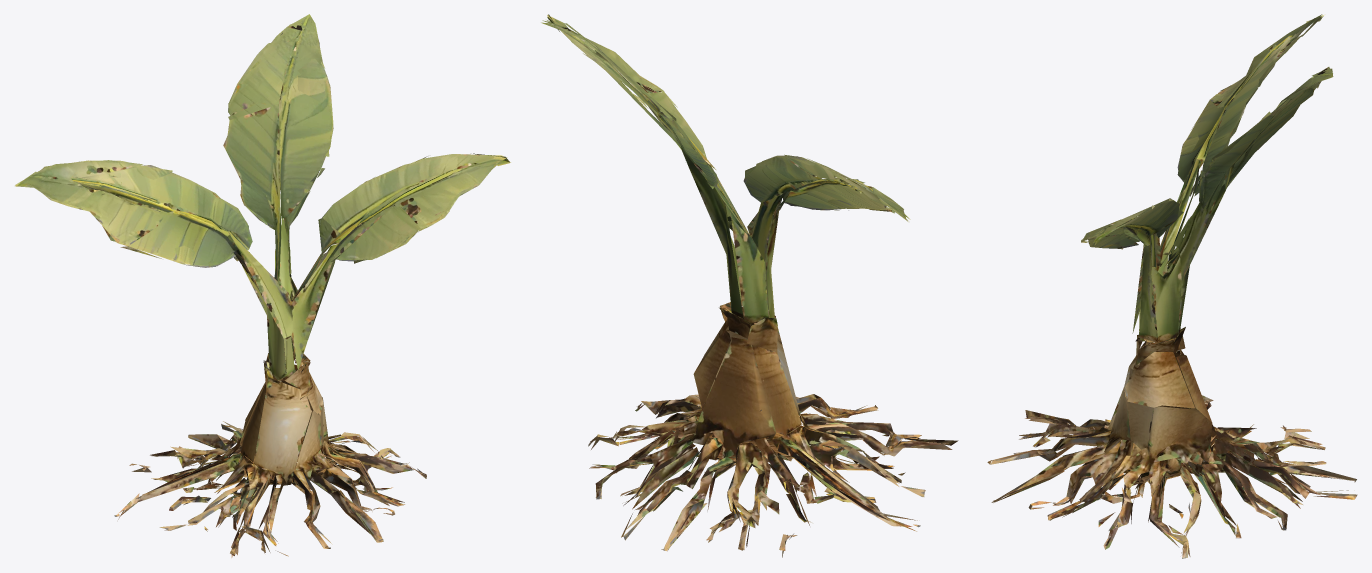
Rendered from turtle-prop-banana-pup.glb.
3 renders of one model, left to right at view 1: azimuth 30°, elevation 25°; view 2: azimuth 150°, elevation 25°; view 3: azimuth 270°, elevation 25°, orthographic. The views are drawn at different scales.
Parts seen in each view (by area): view 1: Mesh_0; view 2: Mesh_0; view 3: Mesh_0.
Boxes of the visible parts, left/top/right/bottom form: Mesh_0: left=15, top=14, right=510, bottom=557; Mesh_0: left=541, top=14, right=958, bottom=557; Mesh_0: left=987, top=14, right=1357, bottom=558.
Size of the model in its own units: 0.0724 by 0.07 by 0.0498.
Materials: 1 (1 with a texture image).
